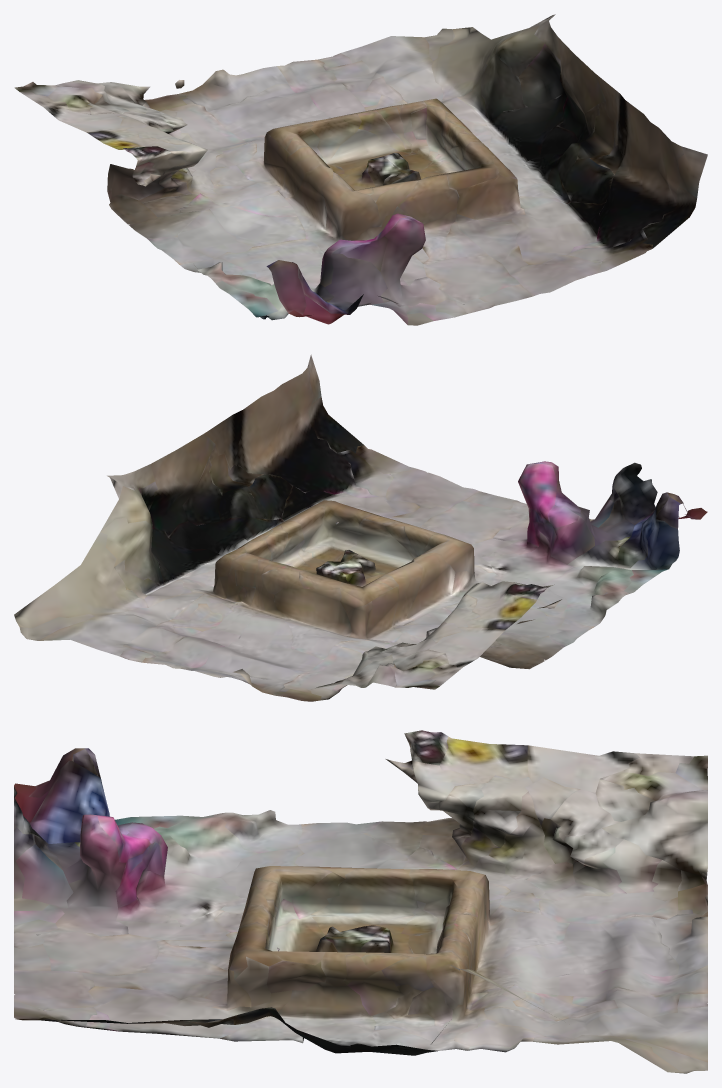
Rendered from hall.glb.
3 views of the same model, one above another, from view 1: azimuth 30°, elevation 25°; view 2: azimuth 150°, elevation 25°; view 3: azimuth 270°, elevation 25° (orthographic). The views are drawn at different scales.
Bounding box in the file's own units: 1.74 × 0.3754 × 1.9.
Materials: 1 (1 with a texture image).
